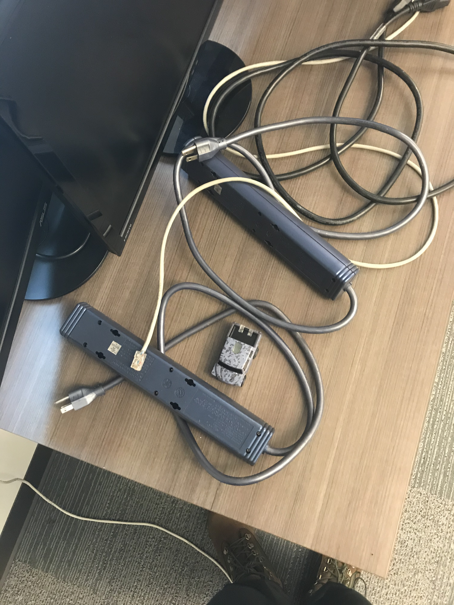MXT: (208, 321, 265, 390)
